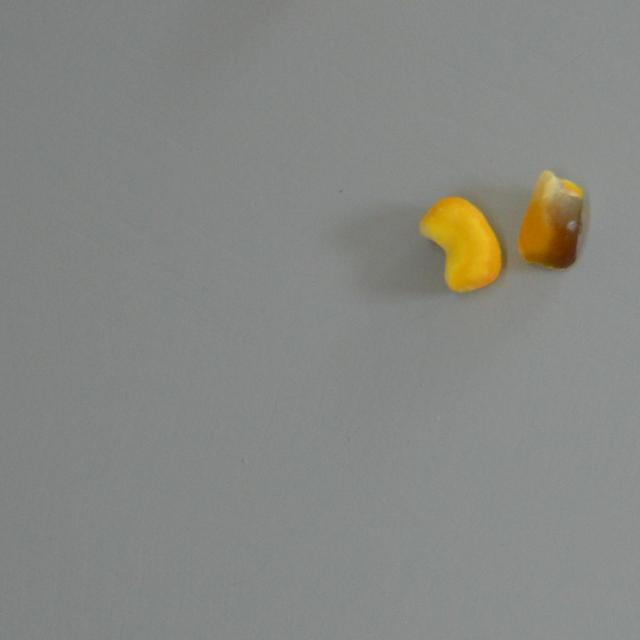dañado: (401, 190, 514, 299), (493, 168, 606, 276)
